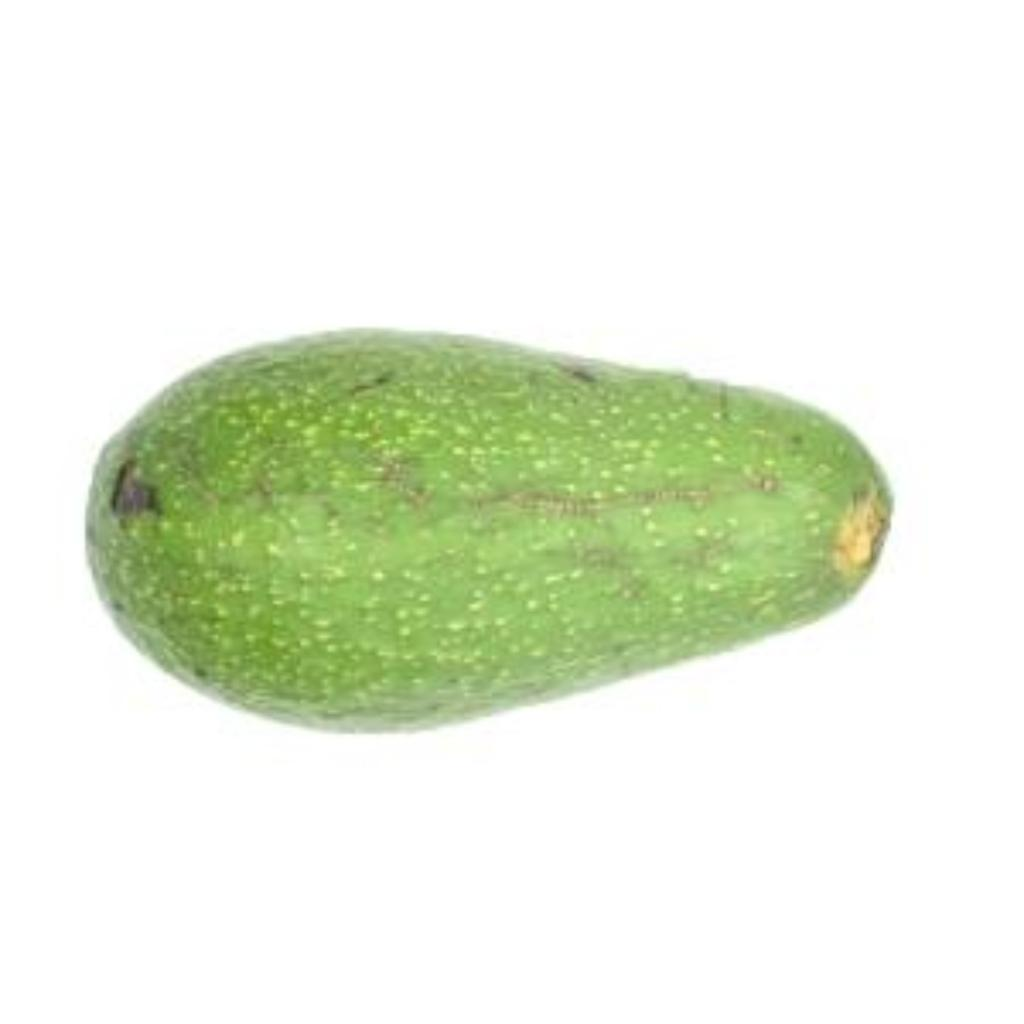cercospora_spot: (21, 314, 905, 754)
